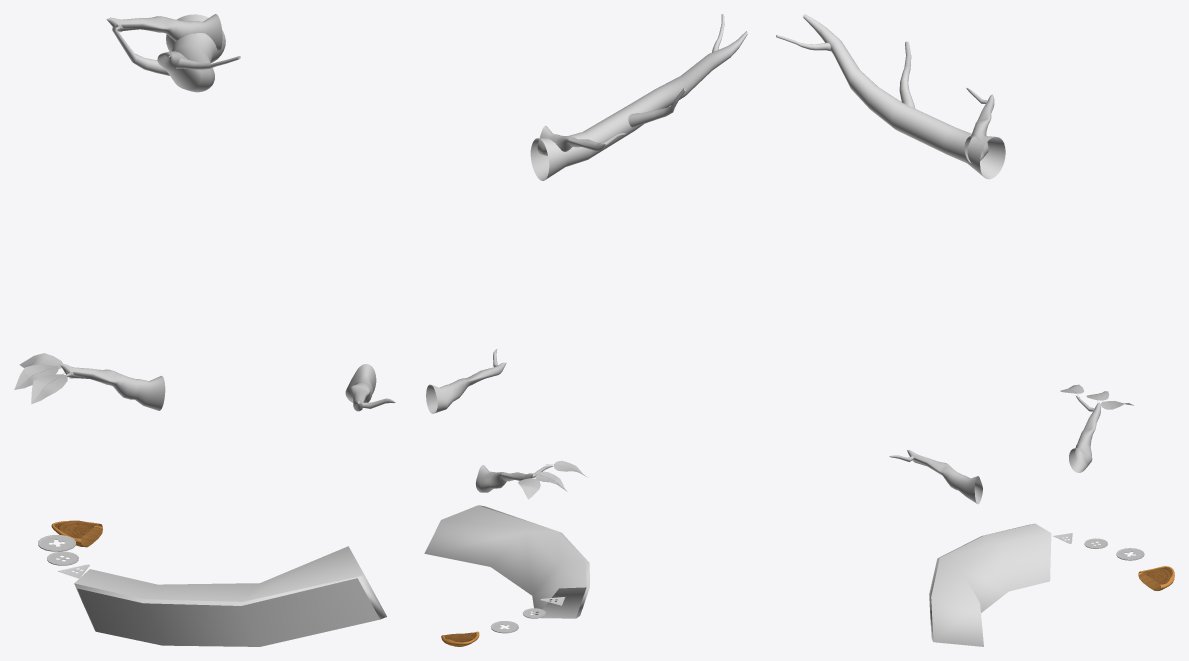
File: PAKOUR.fbx
3 views of the same model, side by side, from view 1: azimuth 30°, elevation 25°; view 2: azimuth 150°, elevation 25°; view 3: azimuth 270°, elevation 25° (orthographic). The views are drawn at different scales.
Parts seen in each view (by area): view 1: Cube.003, Plane.019, Cylinder, Plane.018, Plane.006, Circle.089, Cylinder.001; view 2: Cube.003, Cylinder, Plane.019, Plane.006, Plane.018, Cylinder.001; view 3: Cube.003, Cylinder, Plane.019, Plane.006, Plane.018, Circle.089.
Part boxes in pixels (<box>): Cube.003: <box>74,546,386,646</box>; Plane.019: <box>14,353,165,410</box>; Cylinder: <box>157,14,225,92</box>; Plane.018: <box>106,14,222,51</box>; Plane.006: <box>345,364,395,411</box>; Circle.089: <box>51,520,102,547</box>; Cylinder.001: <box>112,26,169,75</box>; Cube.003: <box>424,505,589,618</box>; Cylinder: <box>530,31,747,180</box>; Plane.019: <box>475,460,587,499</box>; Plane.006: <box>426,349,506,413</box>; Plane.018: <box>537,125,626,155</box>; Cylinder.001: <box>628,87,685,127</box>; Cube.003: <box>929,523,1051,646</box>; Cylinder: <box>803,14,1005,179</box>; Plane.019: <box>1060,384,1133,472</box>; Plane.006: <box>889,450,982,504</box>; Plane.018: <box>964,87,994,162</box>; Circle.089: <box>1138,566,1174,590</box>.
Size of the model in its own units: 415 by 866 by 598.
